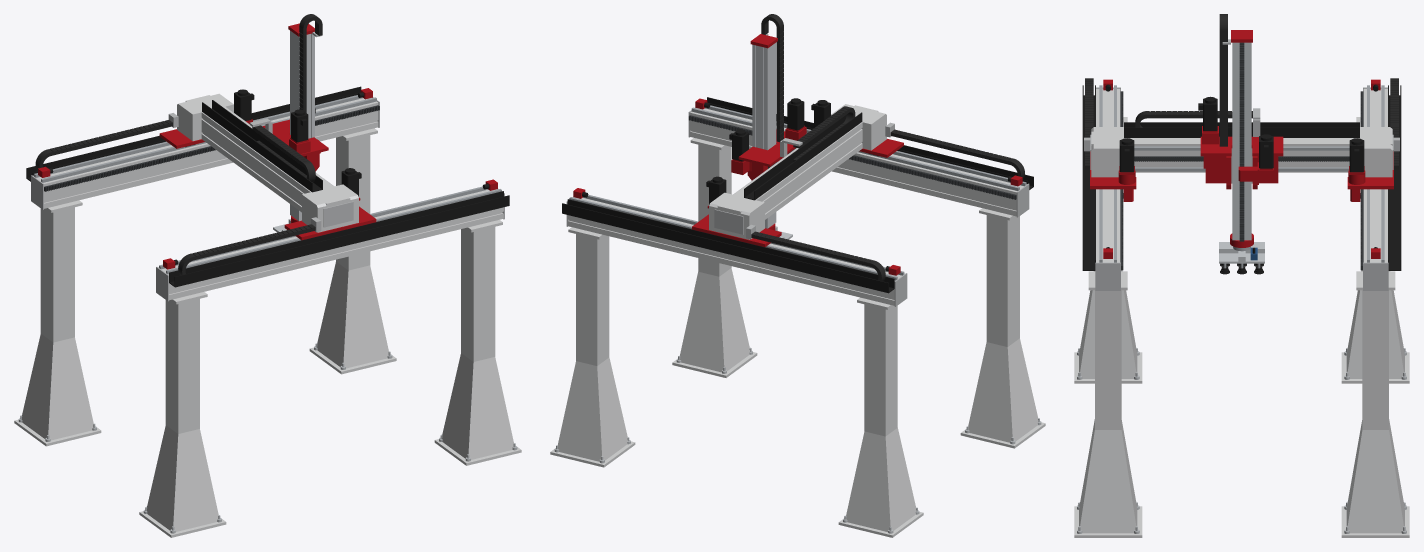
Rendered from LoadingGantry.glb.
The picture shows the model from 3 angles, left to right: view 1: azimuth 30°, elevation 25°; view 2: azimuth 150°, elevation 25°; view 3: azimuth 270°, elevation 25°; orthographic projection. The views are drawn at different scales.
Visible parts, largest first — view 1: Frame, AxisX_Body, AxisY_Body, AxisZ_Body; view 2: Frame, AxisX_Body, AxisY_Body, AxisZ_Body; view 3: Frame, AxisX_Body, AxisY_Body, AxisZ_Body, Gripper.
Boxes of the visible parts, x1,y1,x2,y2 form: Frame: (14,86,521,537); AxisX_Body: (159,89,376,240); AxisY_Body: (249,14,328,171); AxisZ_Body: (288,23,322,222); Frame: (550,97,1045,537); AxisX_Body: (692,100,903,247); AxisY_Body: (729,14,806,180); AxisZ_Body: (750,33,777,230); Frame: (1074,78,1409,537); AxisX_Body: (1084,111,1399,201); AxisY_Body: (1198,14,1283,189); AxisZ_Body: (1222,30,1253,247); Gripper: (1219,242,1264,274).
Bounding box in the file's own units: 3.56 × 4.08 × 2.76.
